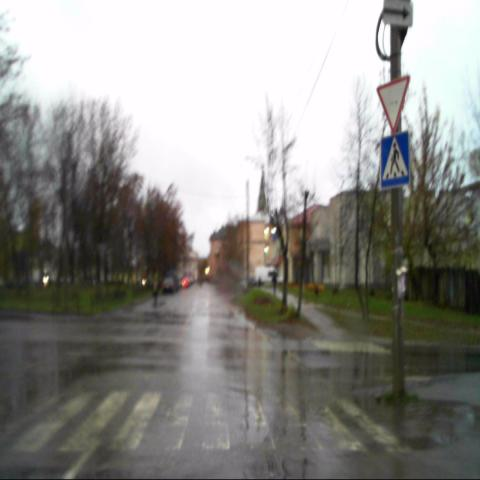8_3_1: (382, 0, 412, 25)
